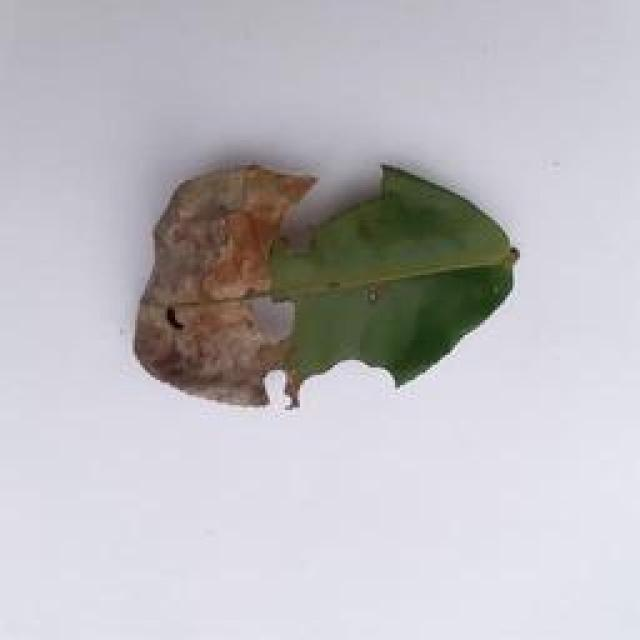Gray Blight: (124, 153, 520, 422)
